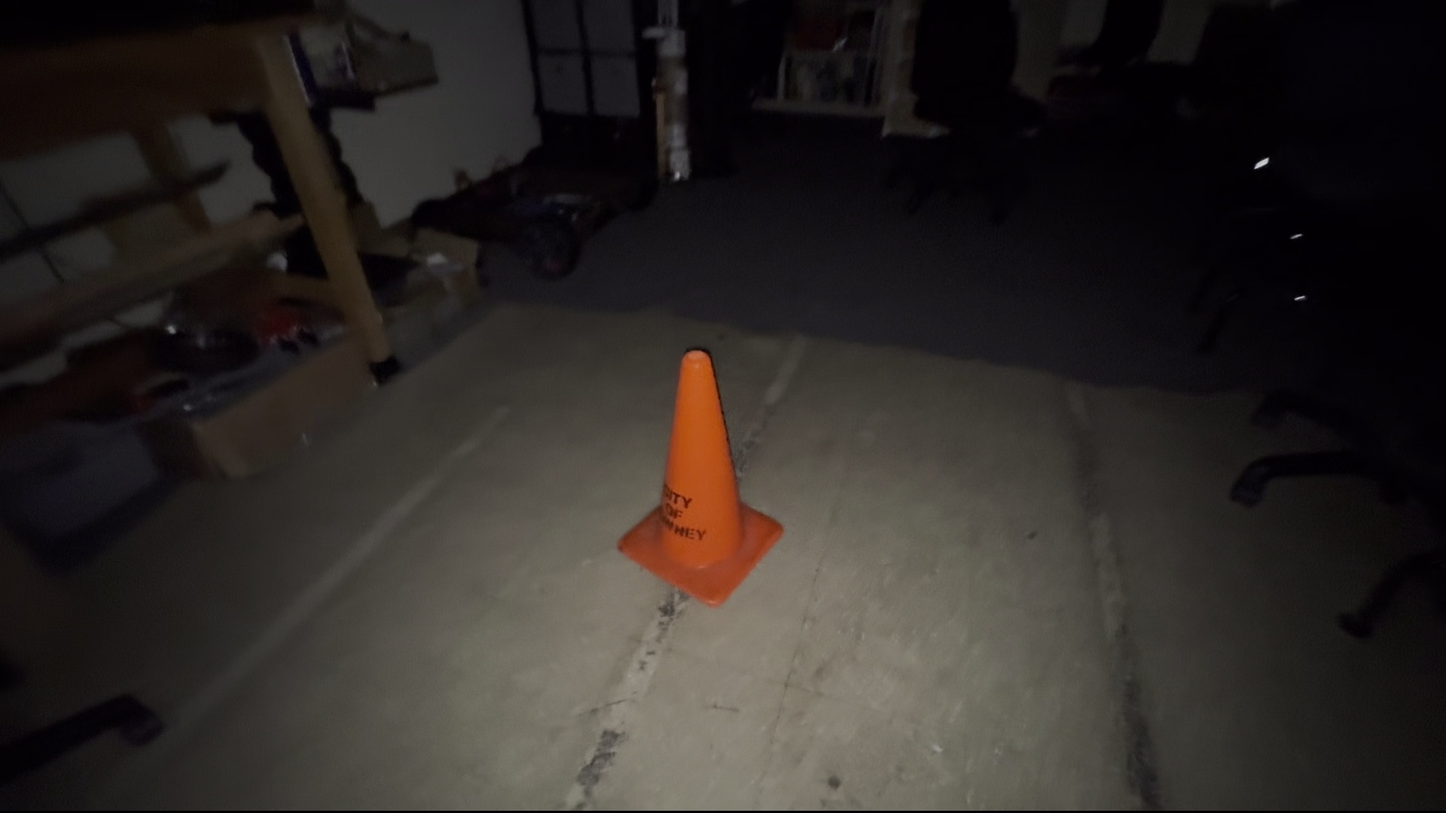traffic_cone: (616, 347, 785, 608)
